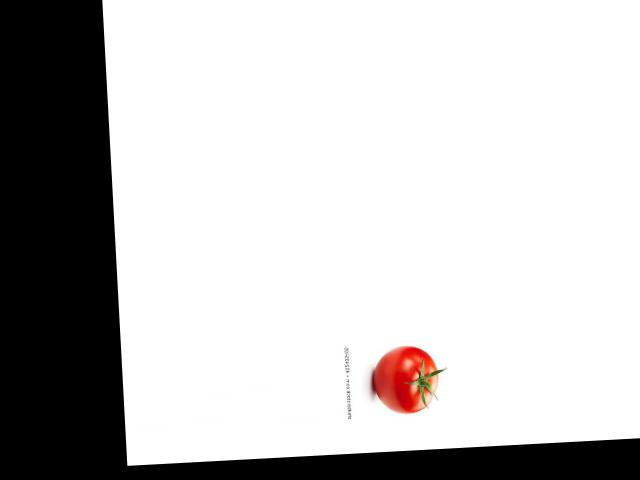tomato: (371, 344, 440, 414)
